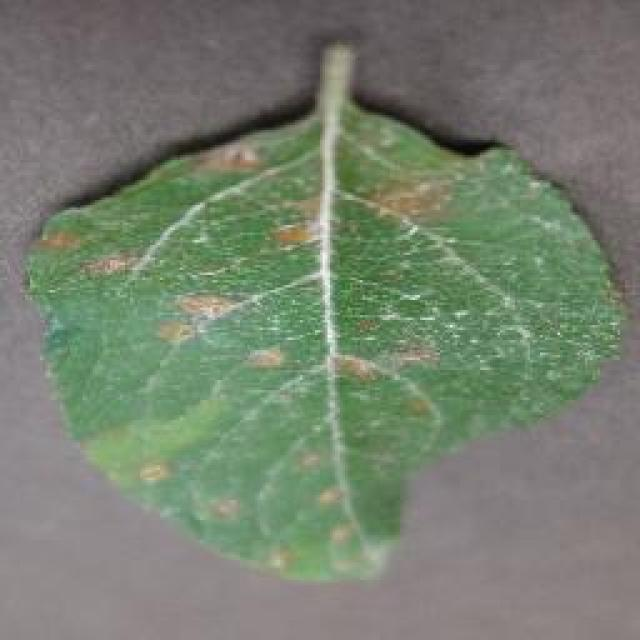apple rust disease: (20, 38, 630, 582)
